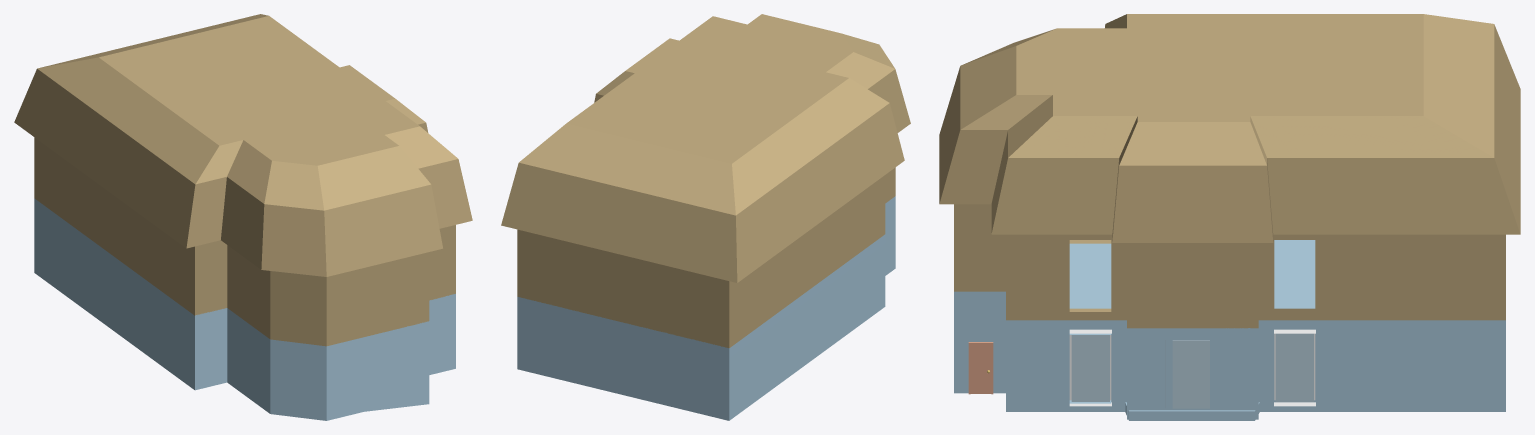
The model's file is House.fbx.
3 views of the same model, side by side, from view 1: azimuth 30°, elevation 25°; view 2: azimuth 150°, elevation 25°; view 3: azimuth 270°, elevation 25° (orthographic). The views are drawn at different scales.
Parts seen in each view (by area): view 1: Cube.026; view 2: Cube.026; view 3: Cube.026.
Part boxes in pixels (x1,y1,x2,y2): Cube.026: [14, 14, 472, 420]; Cube.026: [501, 14, 910, 420]; Cube.026: [939, 14, 1520, 420].
Size of the model in its own units: 1359 by 1216 by 2164.
